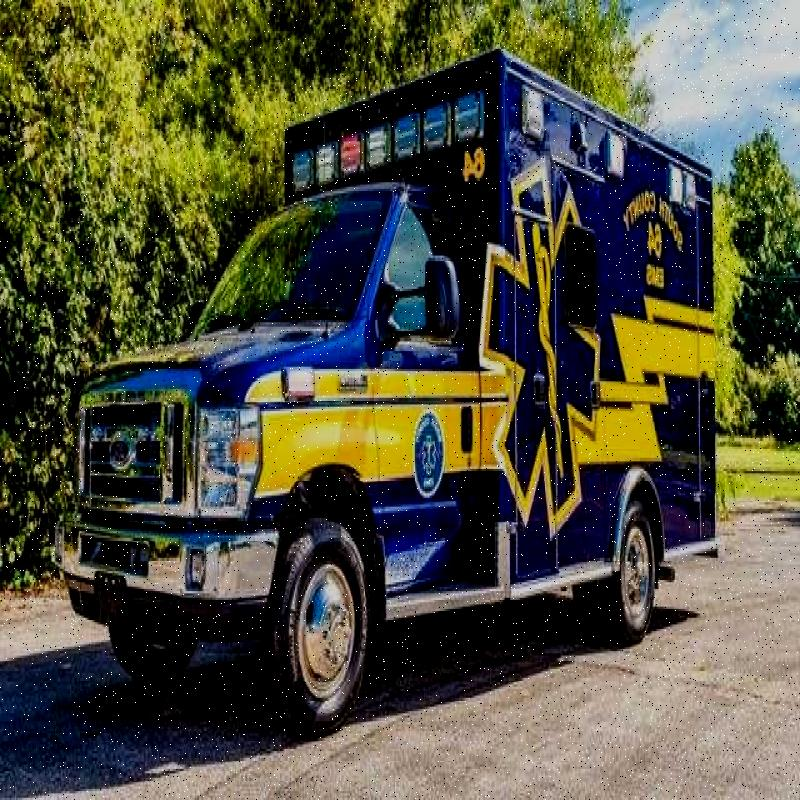AmbulanceSiren: (274, 69, 490, 208)
